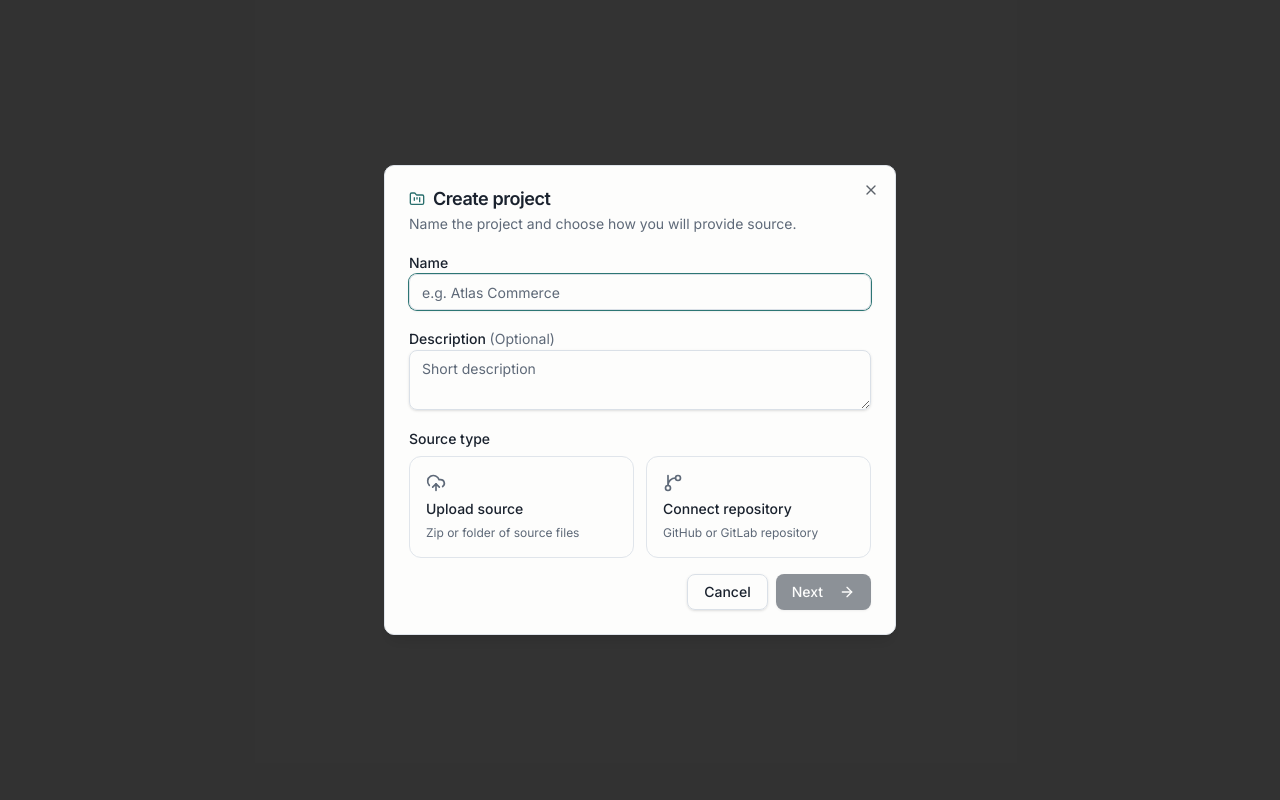
CreateProjectDialog › opens the connect-repository hand-off
The width and height of the screenshot is (1280, 800).
In the field labelled "Name": (640, 292) [409,274,871,310], type "Repo Project"
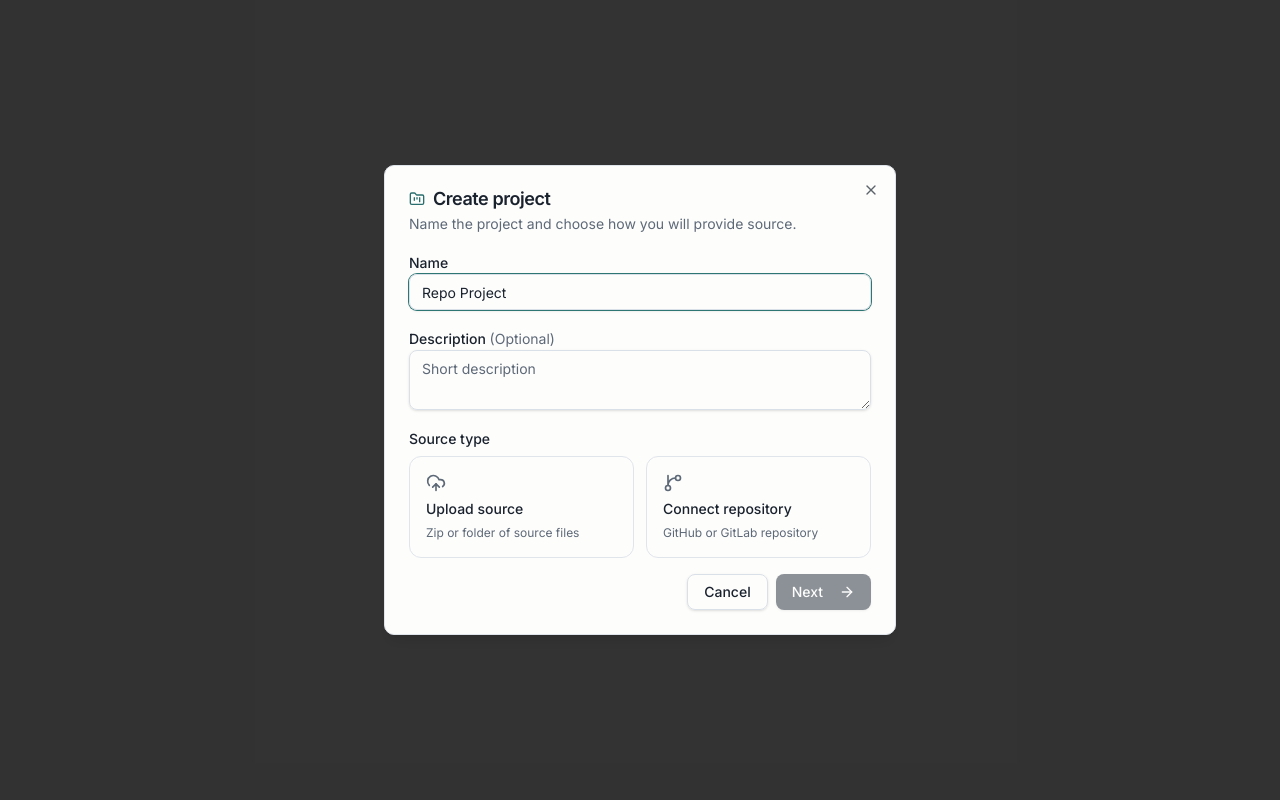
Click the text "Connect repository": (727, 509) [663,499,792,519]
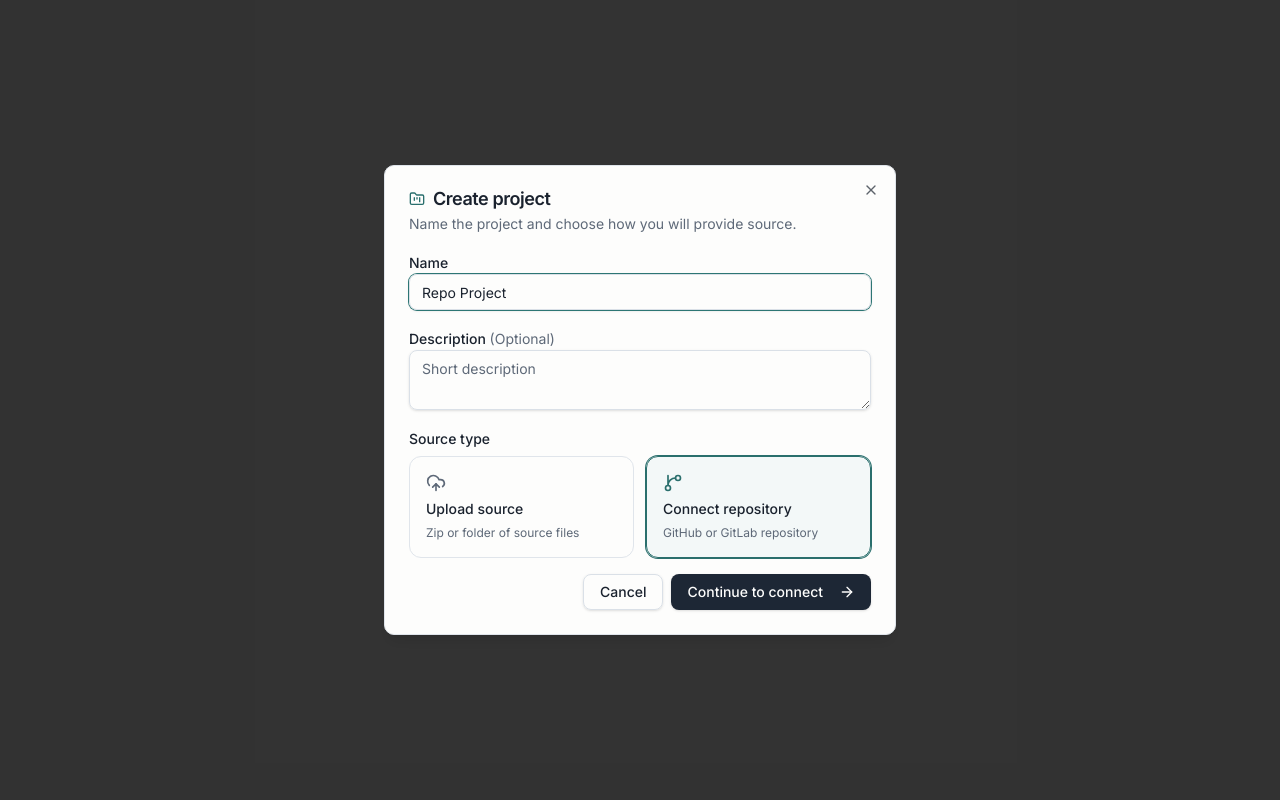
Click the button "Continue to connect": (771, 592) [672,574,871,610]
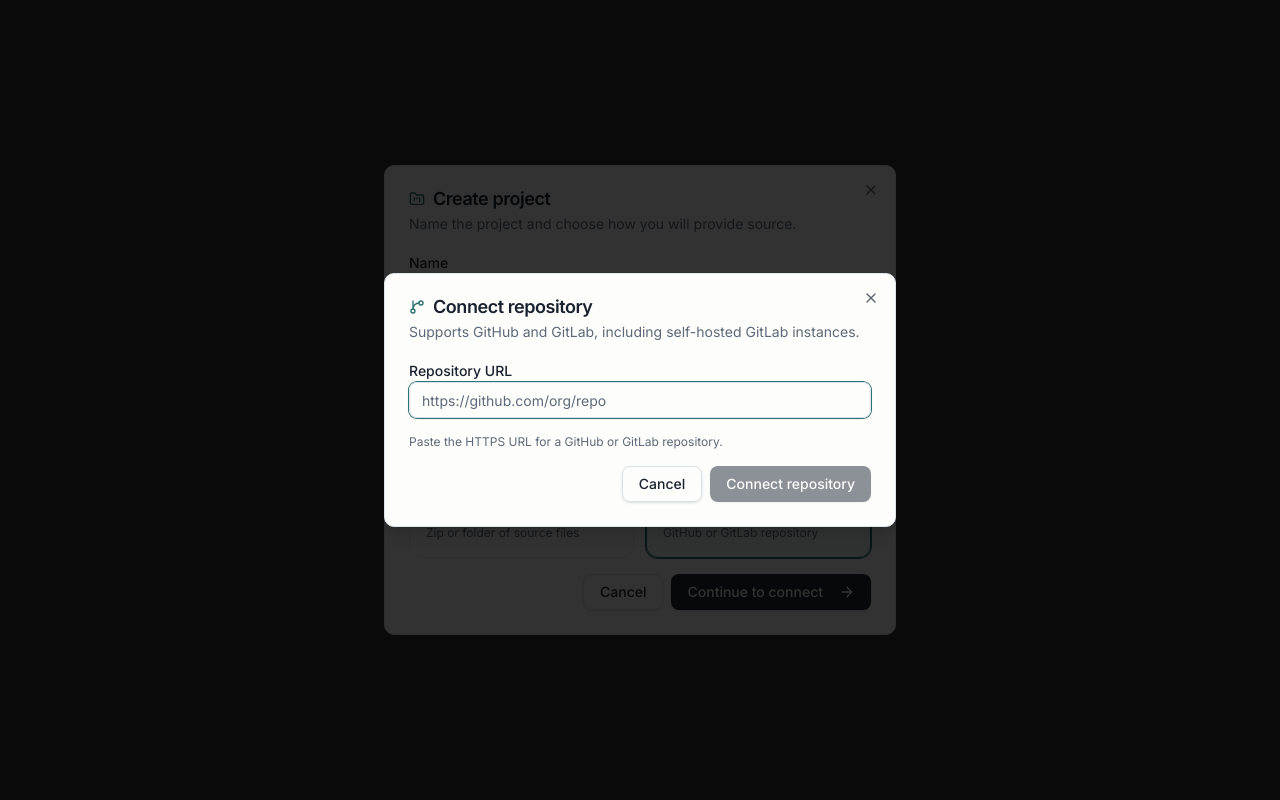
Expected: the heading "Connect repository" is shown, [409,296,592,317]
